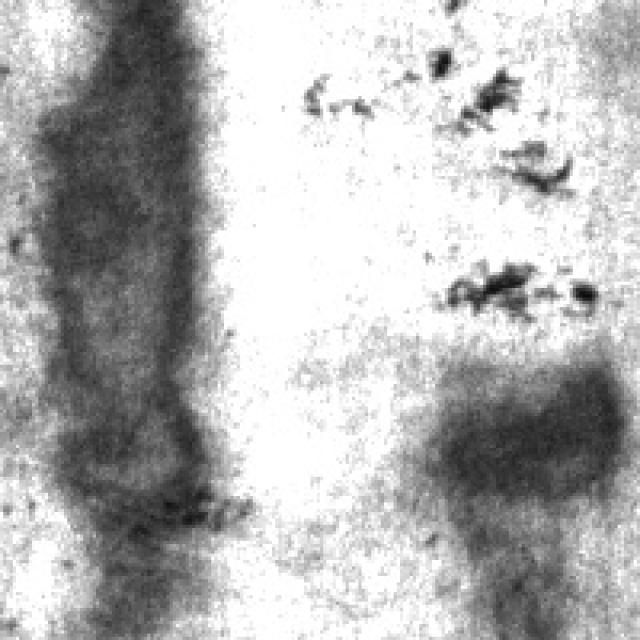patches: (32, 0, 211, 630), (419, 342, 624, 506), (461, 493, 582, 637)
